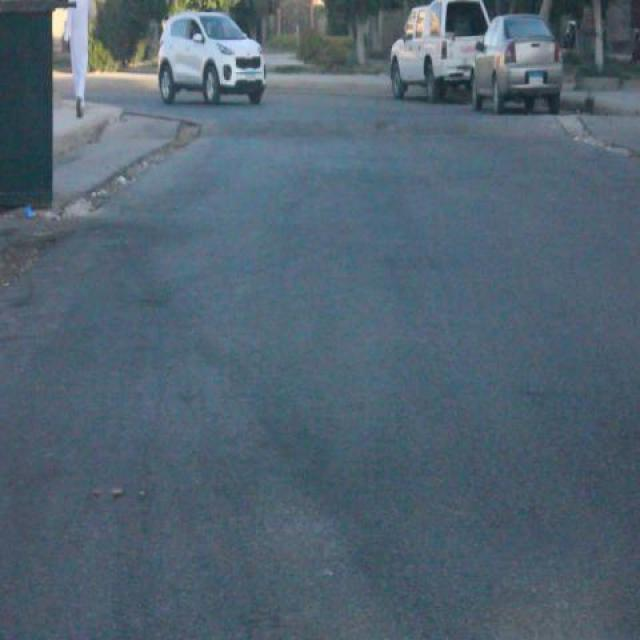Unmarked Bump: (202, 107, 585, 137)
